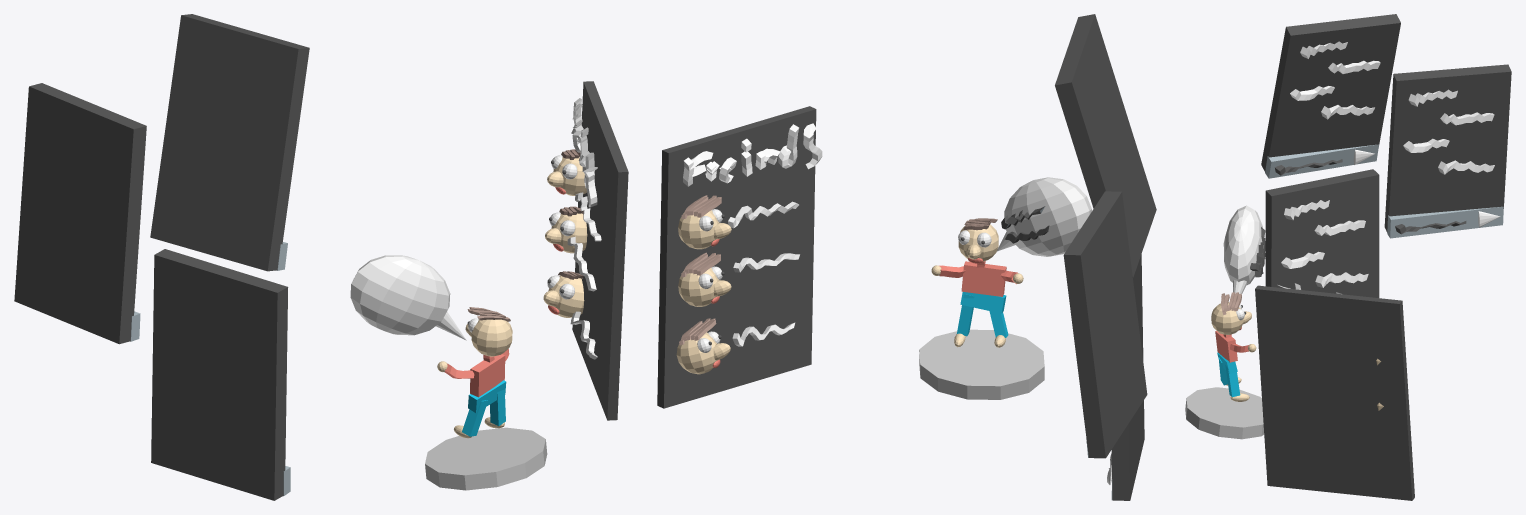
File: facebook.glb
3 renders of one model, left to right at view 1: azimuth 30°, elevation 25°; view 2: azimuth 150°, elevation 25°; view 3: azimuth 270°, elevation 25°, orthographic. The views are drawn at different scales.
Visible parts, largest first — view 1: group218118665, group1848184585, group236362897, group885130143, group896073132; view 2: group896073132, group885130143, group236362897, group218118665, group1848184585; view 3: group896073132, group236362897, group218118665, group1848184585, group885130143.
Part boxes in pixels (box(x1,y1,x2,y2)): group218118665: box(150, 14, 309, 271); group1848184585: box(151, 249, 290, 500); group236362897: box(14, 83, 146, 344); group885130143: box(350, 255, 547, 490); group896073132: box(543, 81, 628, 420); group896073132: box(657, 106, 822, 408); group885130143: box(919, 177, 1091, 399); group236362897: box(1063, 191, 1147, 458); group218118665: box(1055, 14, 1156, 277); group1848184585: box(1107, 254, 1144, 500); group896073132: box(1255, 283, 1414, 500); group236362897: box(1384, 64, 1511, 238); group218118665: box(1261, 14, 1400, 178); group1848184585: box(1265, 169, 1379, 297); group885130143: box(1185, 205, 1265, 439).
Bounding box in the file's own units: 1.83 × 1.49 × 1.29.
